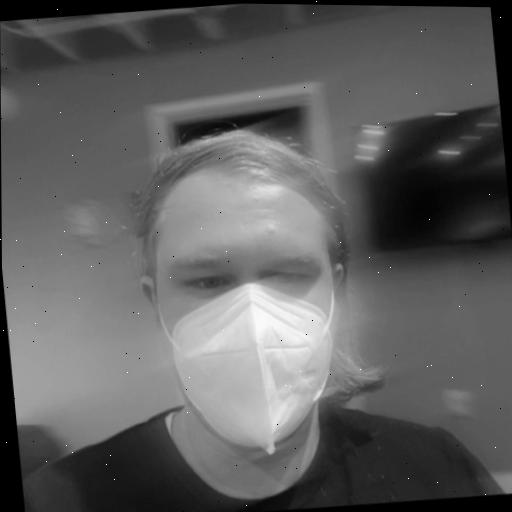mask: (96, 108, 388, 477)
